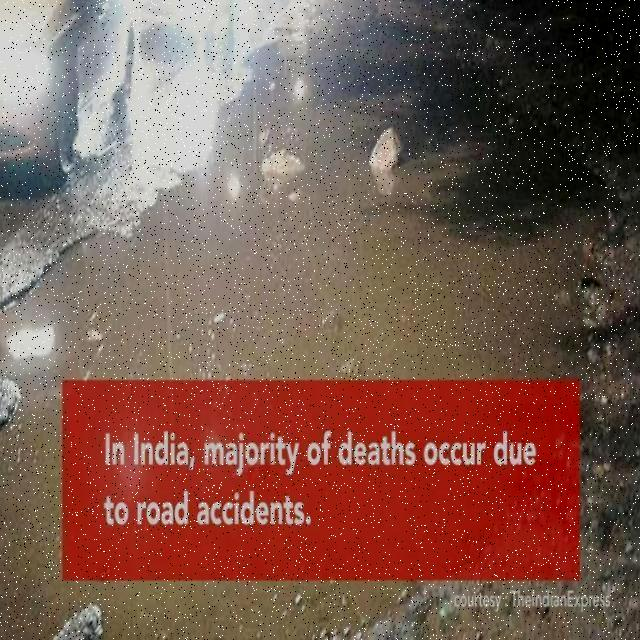pothole: (16, 37, 610, 374)
